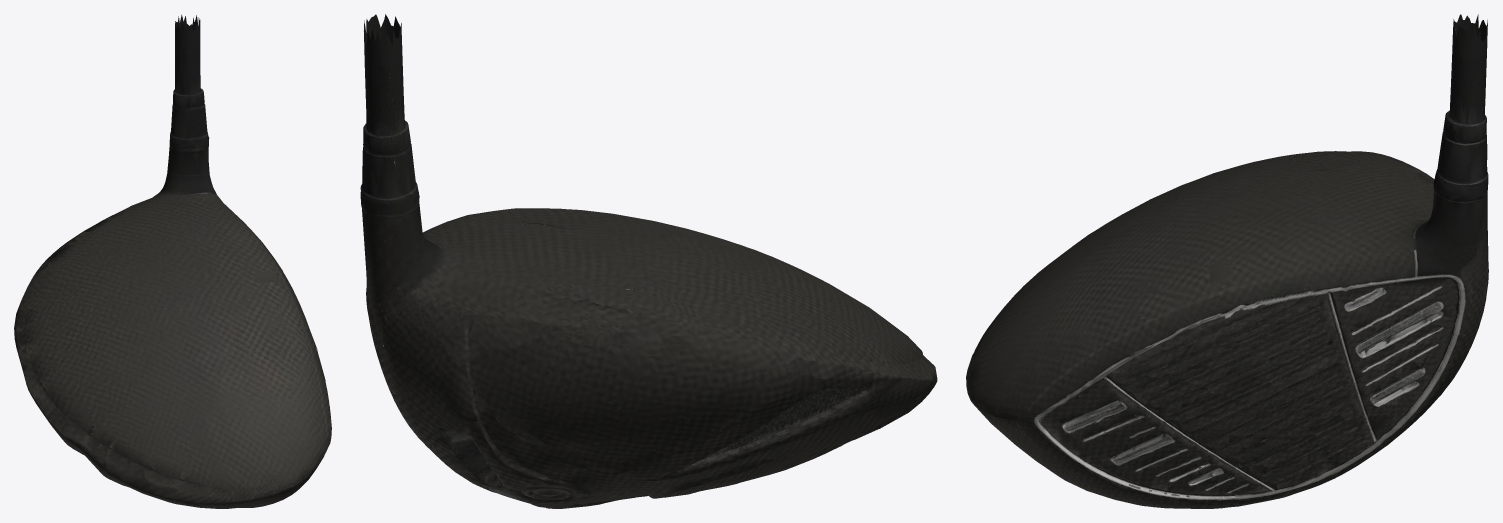
The model's file is driver_qi4d.glb.
The picture shows the model from 3 angles, left to right: view 1: azimuth 30°, elevation 25°; view 2: azimuth 150°, elevation 25°; view 3: azimuth 270°, elevation 25°; orthographic projection. The views are drawn at different scales.
Visible parts, largest first — view 1: Mesh_0; view 2: Mesh_0; view 3: Mesh_0.
Boxes of the visible parts, box(x1,y1,x2,y2) form: Mesh_0: box(14, 14, 331, 508); Mesh_0: box(360, 14, 937, 508); Mesh_0: box(966, 14, 1488, 508).
Size of the model in its own units: 0.0969 by 0.1291 by 0.1181.
1 material, 1 textured.
